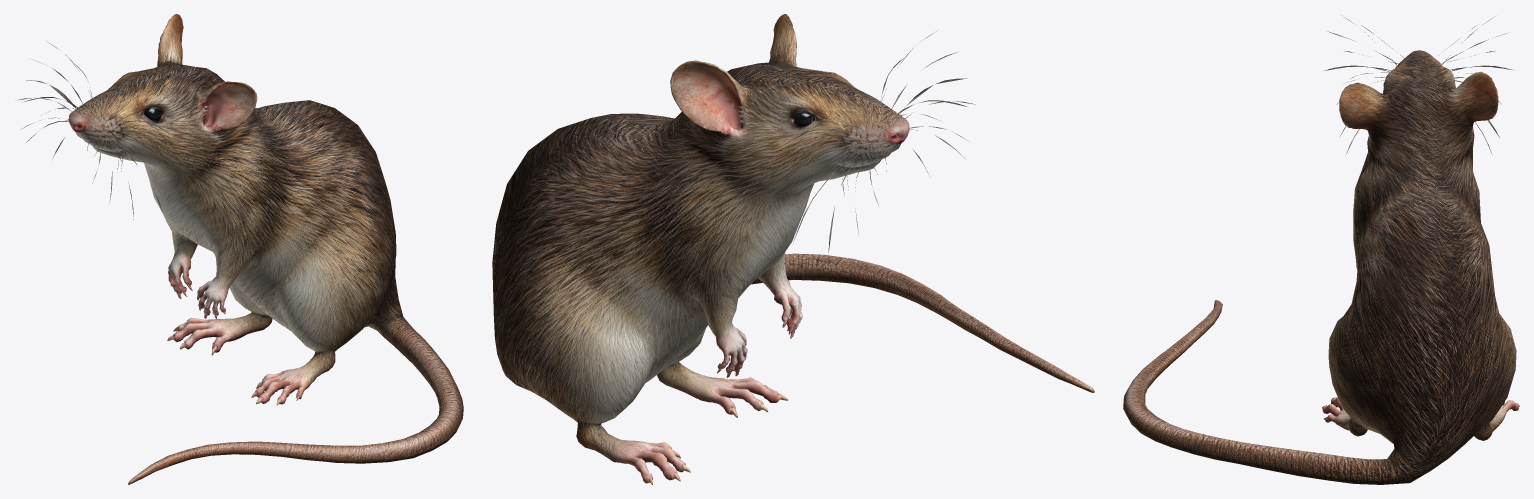
Rendered from idle_rat.glb.
The picture shows the model from 3 angles, left to right: view 1: azimuth 30°, elevation 25°; view 2: azimuth 150°, elevation 25°; view 3: azimuth 270°, elevation 25°; orthographic projection. The views are drawn at different scales.
Visible parts, largest first — view 1: Model; view 2: Model; view 3: Model.
Part boxes in pixels (box(x1,y1,x2,y2)): Model: box(17, 14, 463, 484); Model: box(492, 14, 1094, 484); Model: box(1123, 17, 1519, 484).
Size of the model in its own units: 1 by 0.863 by 0.9413.
1 material, 1 textured.
